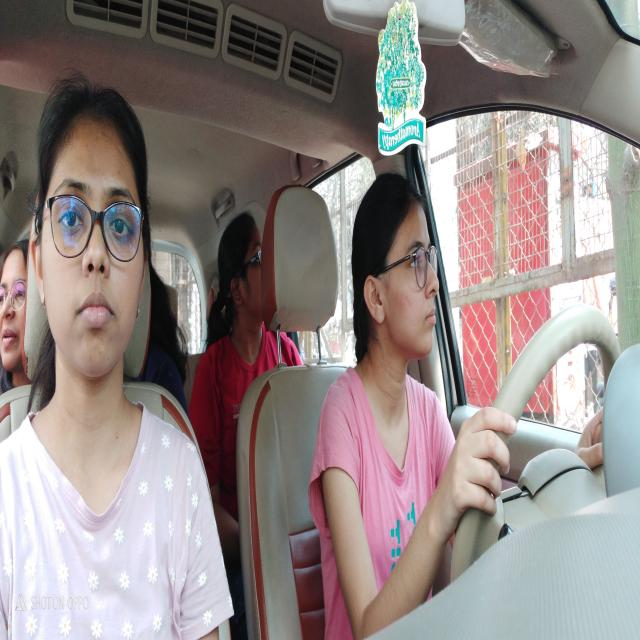LeftRight: (352, 178, 443, 382)
person: (27, 63, 154, 382), (214, 212, 274, 354), (0, 237, 32, 374)
